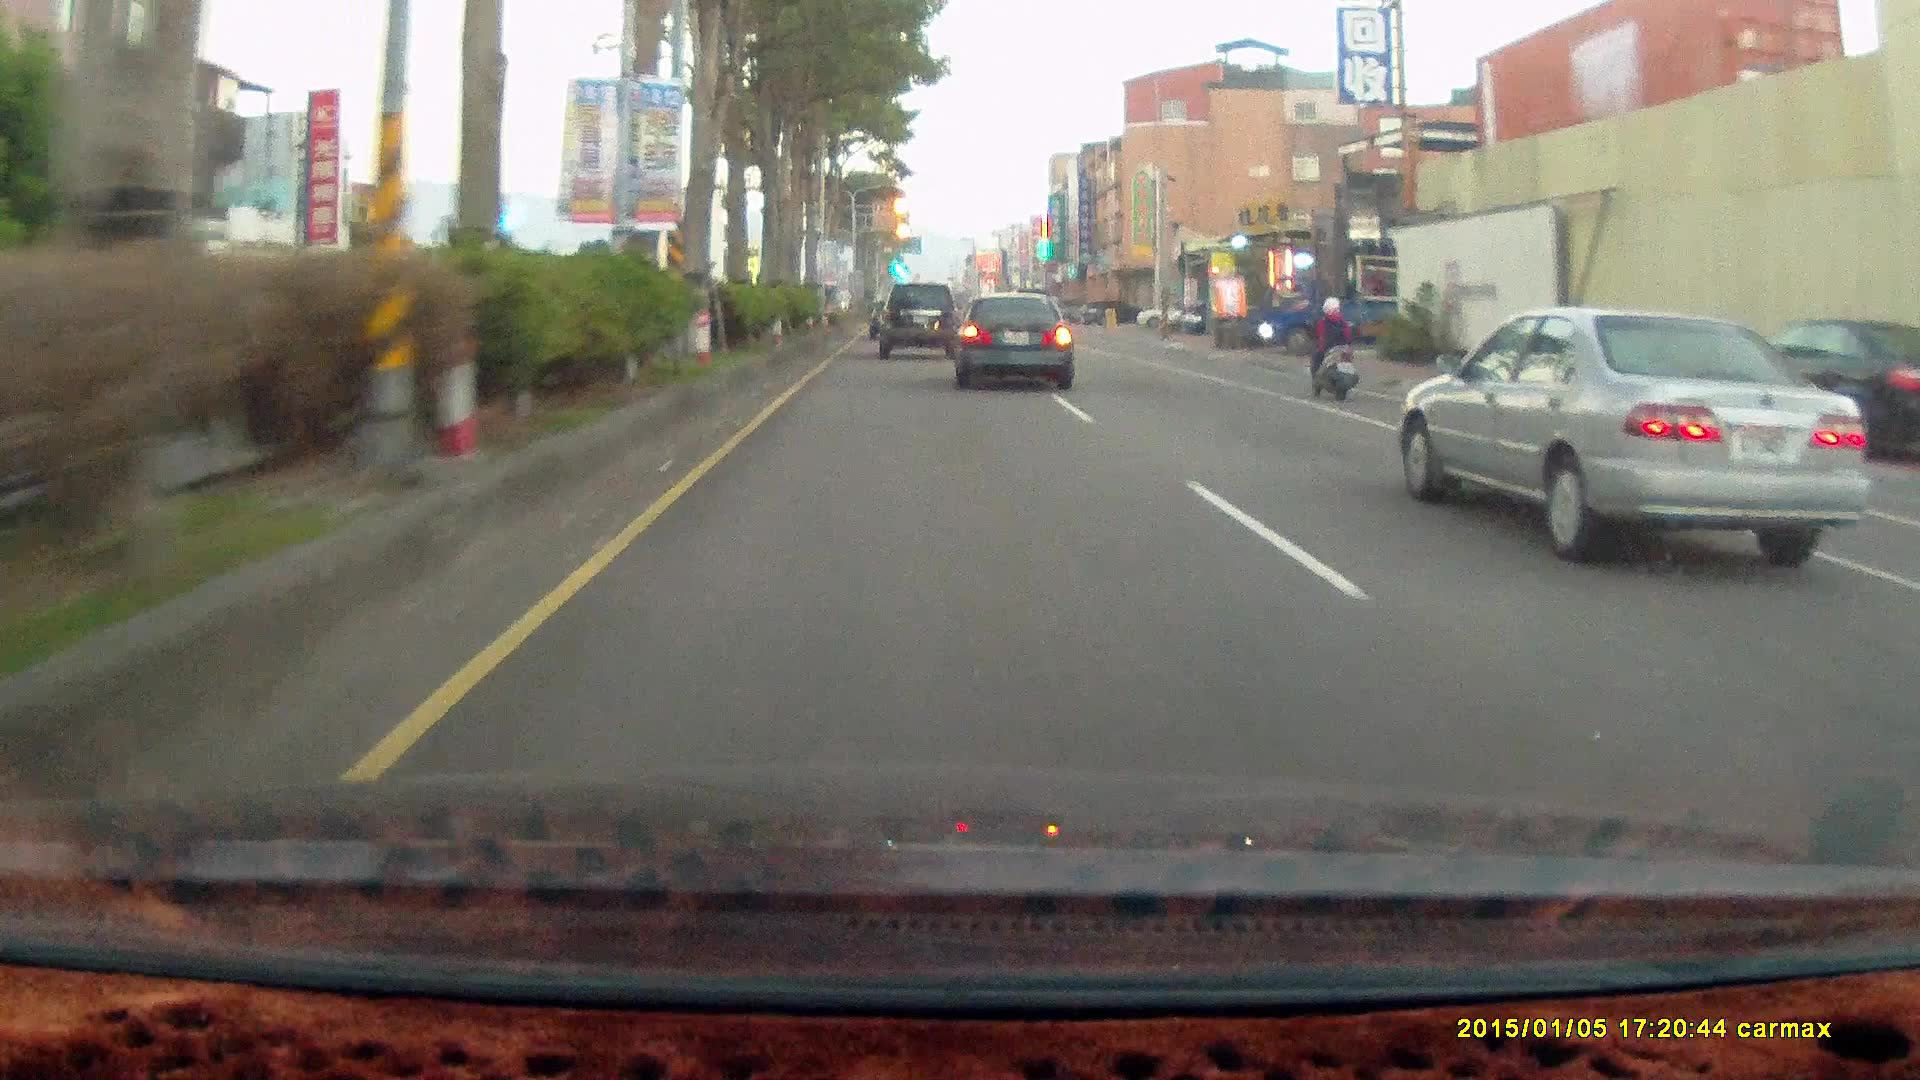rider: (1297, 288, 1370, 410), (1301, 292, 1358, 401)
vehicle: (1398, 304, 1870, 569), (1396, 301, 1870, 558), (1255, 271, 1433, 353), (952, 288, 1075, 389), (957, 293, 1082, 390), (1258, 268, 1407, 346), (878, 282, 960, 357), (878, 283, 961, 354), (1135, 299, 1197, 329), (1082, 297, 1145, 322)
